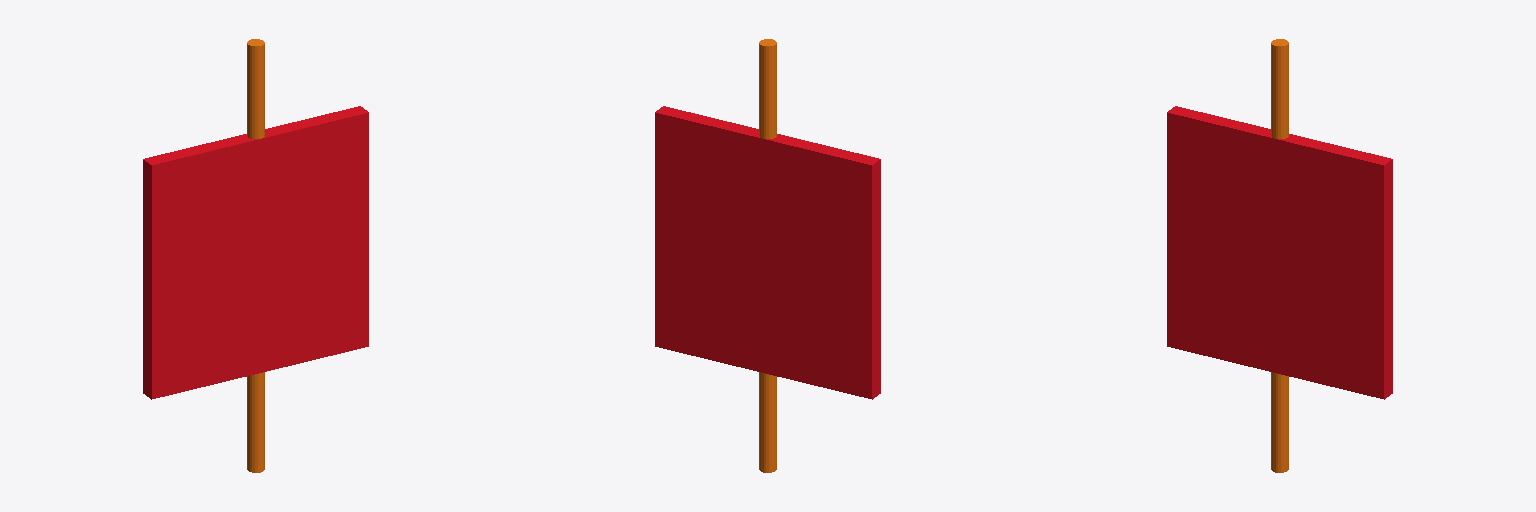
The model's file is Plane about Center.obj.
3 views of the same model, side by side, from view 1: azimuth 30°, elevation 25°; view 2: azimuth 150°, elevation 25°; view 3: azimuth 330°, elevation 25° (orthographic).
Visible parts, largest first — view 1: obj_0; view 2: obj_0; view 3: obj_0.
Boxes of the visible parts, <box> form: obj_0: <box>143,39,368,472</box>; obj_0: <box>655,39,880,472</box>; obj_0: <box>1167,39,1392,472</box>.
Bounding box in the file's own units: 71 × 133 × 5.